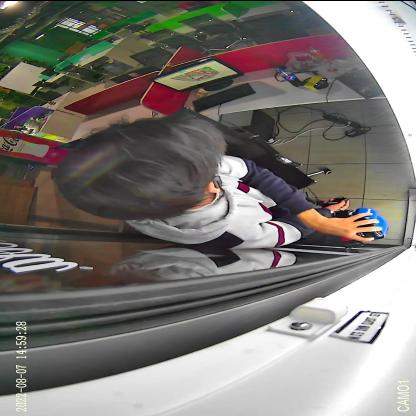blue: (353, 206, 389, 239)
red: (330, 208, 362, 245)
